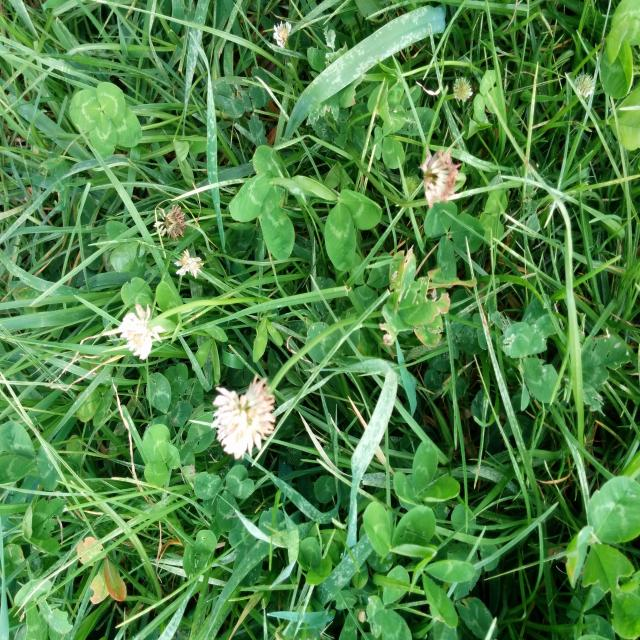Four Leaf Clover: (69, 81, 142, 157)
